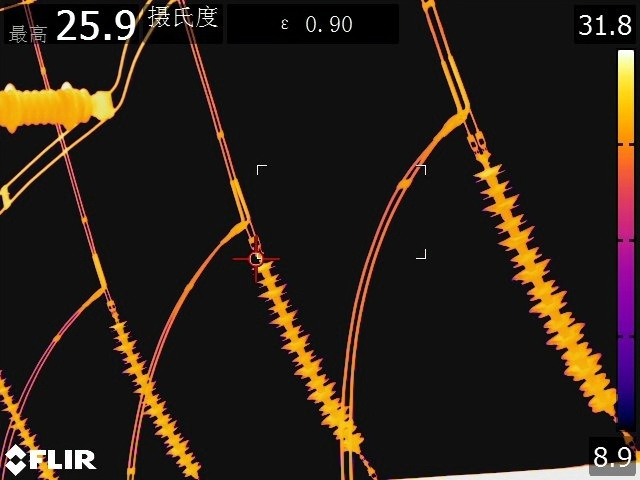clamp: (434, 99, 481, 140), (217, 205, 259, 244), (79, 275, 112, 312)
insulator: (465, 143, 616, 419), (253, 258, 368, 458), (104, 315, 205, 477), (2, 377, 58, 480)
post insulator: (1, 79, 114, 136)
